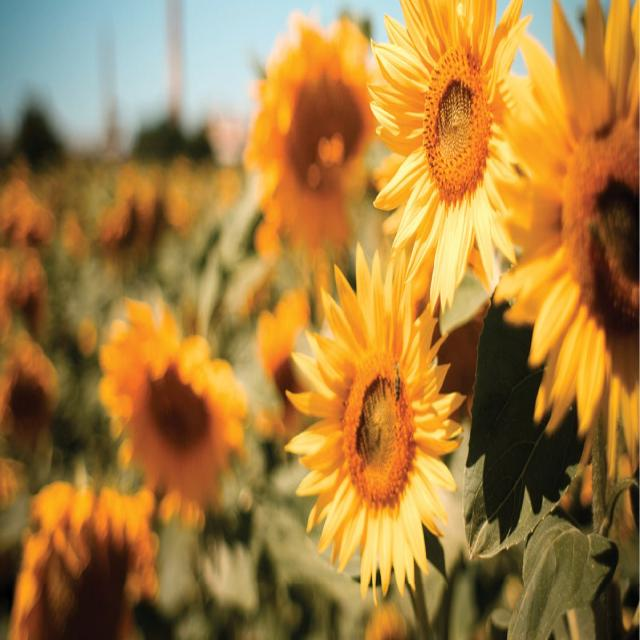sunflower: (493, 0, 639, 479), (283, 241, 466, 611), (366, 0, 533, 312), (98, 299, 248, 513), (243, 10, 379, 244), (9, 484, 158, 638), (1, 341, 56, 440)
